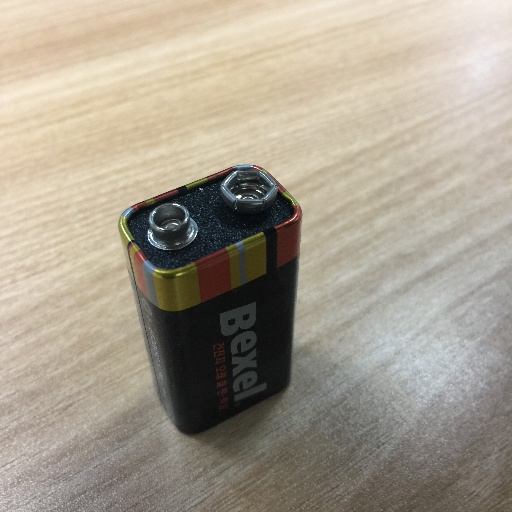Battery_3: (108, 141, 317, 435)
